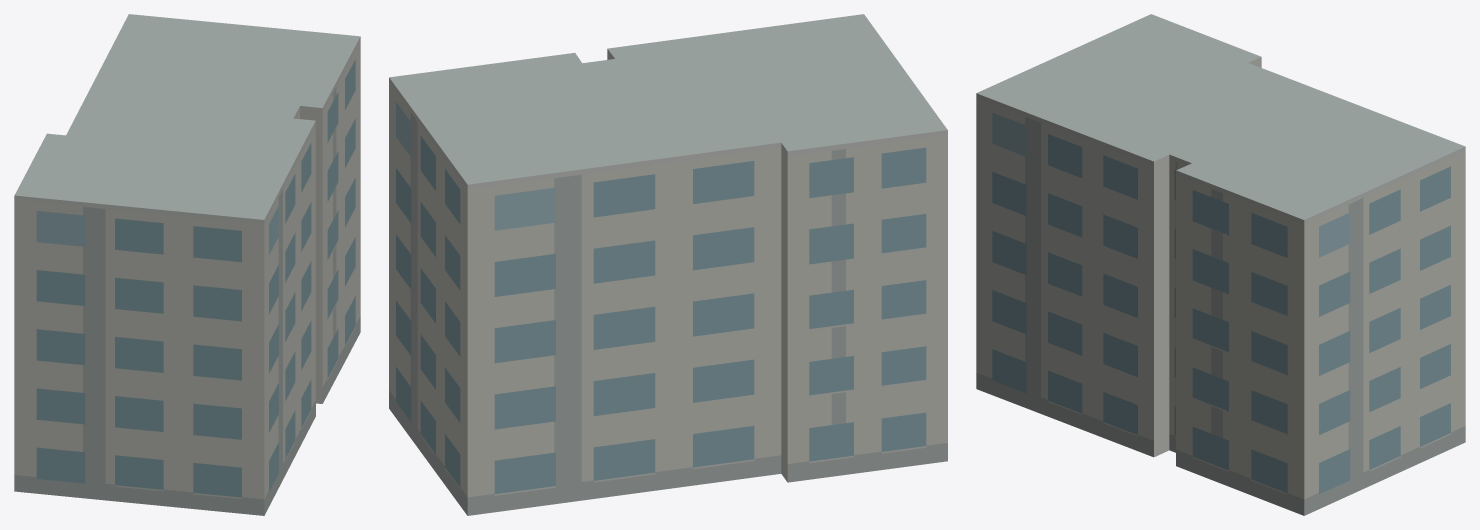
File: survey-upis-33047099.glb
The picture shows the model from 3 angles, left to right: view 1: azimuth 30°, elevation 25°; view 2: azimuth 150°, elevation 25°; view 3: azimuth 270°, elevation 25°; orthographic projection. The views are drawn at different scales.
Parts seen in each view (by area): view 1: survey-upis-33047099.tmp; view 2: survey-upis-33047099.tmp; view 3: survey-upis-33047099.tmp.
Boxes of the visible parts, bbox=[...] form: survey-upis-33047099.tmp: bbox=[14, 14, 360, 515]; survey-upis-33047099.tmp: bbox=[389, 14, 947, 515]; survey-upis-33047099.tmp: bbox=[976, 14, 1465, 515].
Size of the model in its own units: 22.88 by 15.3 by 22.95.
